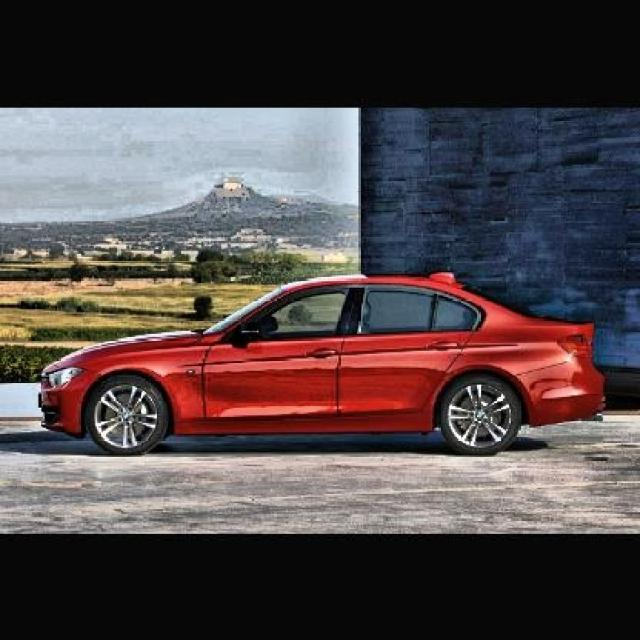red: (37, 275, 608, 455)
